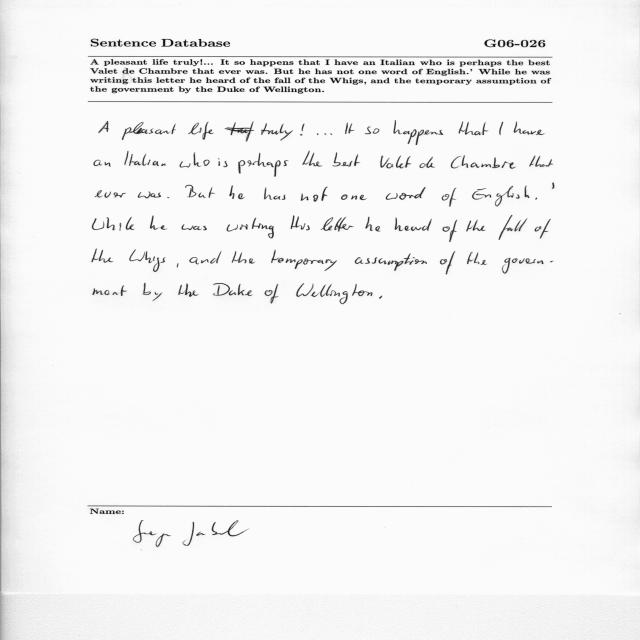word: (296, 284, 373, 305), (271, 250, 337, 271), (355, 253, 427, 271), (394, 120, 444, 145), (238, 153, 288, 177), (472, 186, 529, 207), (227, 218, 274, 239), (122, 122, 176, 140), (451, 155, 516, 169), (129, 249, 166, 272), (502, 258, 553, 274), (499, 215, 527, 240), (125, 151, 166, 166), (93, 217, 135, 231), (225, 122, 254, 142), (261, 123, 293, 141), (386, 187, 426, 200), (213, 283, 252, 296), (321, 217, 354, 232), (394, 218, 432, 231), (188, 122, 214, 140), (180, 153, 210, 168), (514, 121, 545, 135), (189, 251, 222, 264), (300, 187, 328, 202), (333, 152, 360, 167), (381, 156, 412, 169), (459, 122, 489, 135), (185, 185, 215, 198), (93, 285, 127, 296), (143, 283, 163, 301), (440, 252, 455, 275), (443, 220, 458, 242), (303, 151, 323, 167), (535, 219, 551, 238), (232, 251, 255, 264), (92, 249, 113, 263), (291, 216, 310, 231), (179, 283, 199, 297), (442, 188, 456, 207), (529, 156, 553, 167), (264, 188, 286, 200), (467, 252, 487, 265), (150, 215, 167, 230), (96, 190, 127, 198), (265, 284, 278, 303), (467, 220, 486, 232), (366, 217, 381, 232), (229, 186, 245, 200), (420, 157, 435, 168), (138, 192, 161, 199), (341, 195, 367, 201), (181, 224, 207, 230), (99, 121, 109, 133), (94, 160, 111, 167), (365, 127, 379, 135), (345, 123, 354, 134), (218, 159, 228, 168), (300, 123, 304, 136), (500, 122, 504, 135), (317, 133, 332, 135), (552, 182, 555, 189), (177, 263, 179, 268), (379, 296, 382, 299), (535, 198, 537, 200), (168, 197, 170, 198)
